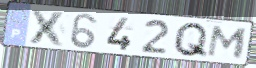2: (140, 18, 172, 56)
4: (105, 16, 134, 52)
6: (69, 11, 98, 50)
M: (205, 24, 250, 60)
Q: (171, 21, 210, 60)
X: (26, 8, 69, 48)
